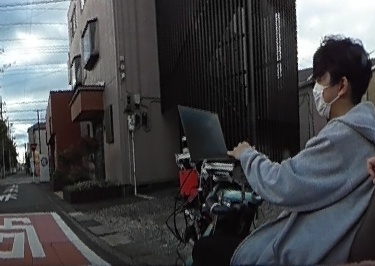person: (251, 35, 375, 266)
